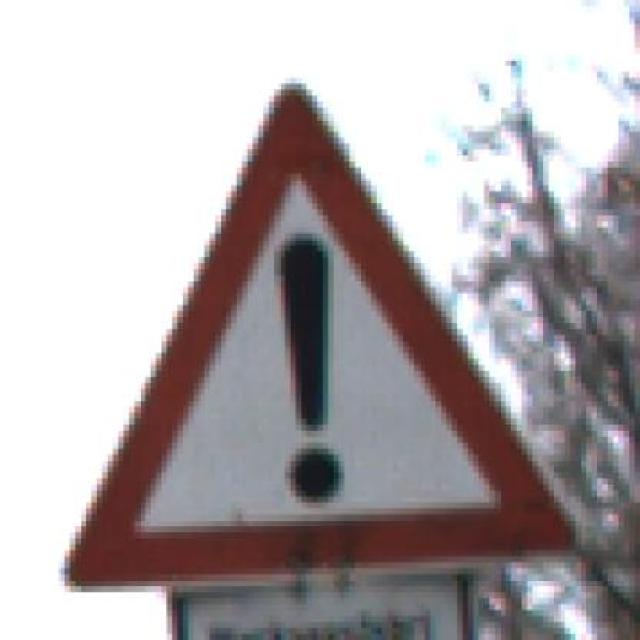Attention Please-: (47, 71, 618, 604)
